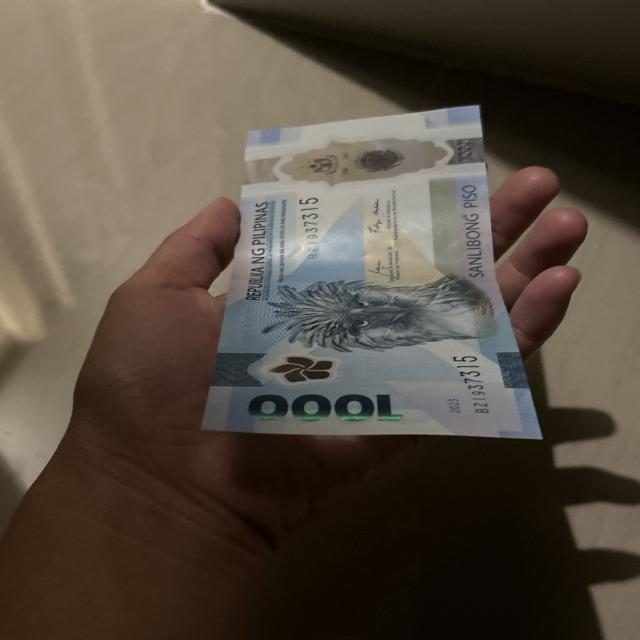clear_window: (256, 139, 472, 183)
eagle: (265, 280, 501, 350)
sampaguita: (265, 352, 337, 387)
value: (249, 391, 410, 427)
